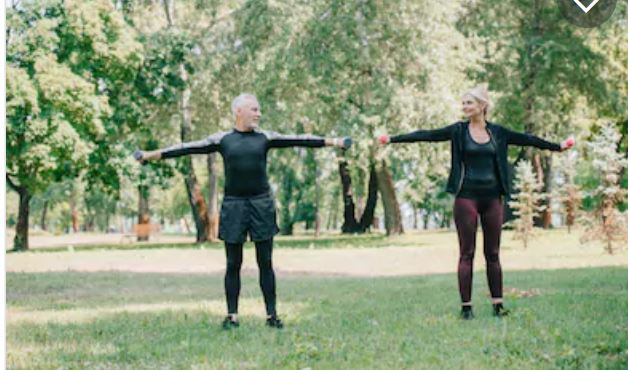Good: (137, 89, 579, 329)
